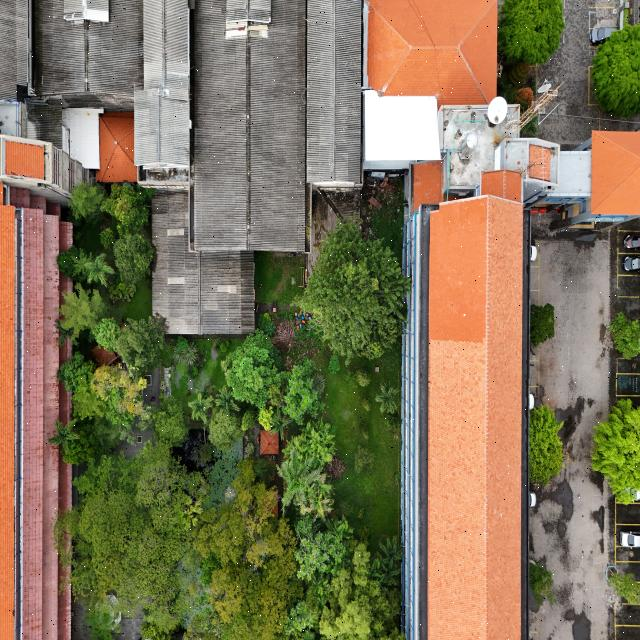Tree: (296, 222, 408, 358), (502, 0, 562, 68), (47, 412, 81, 456), (82, 248, 118, 288), (186, 390, 213, 426), (376, 380, 400, 416)
